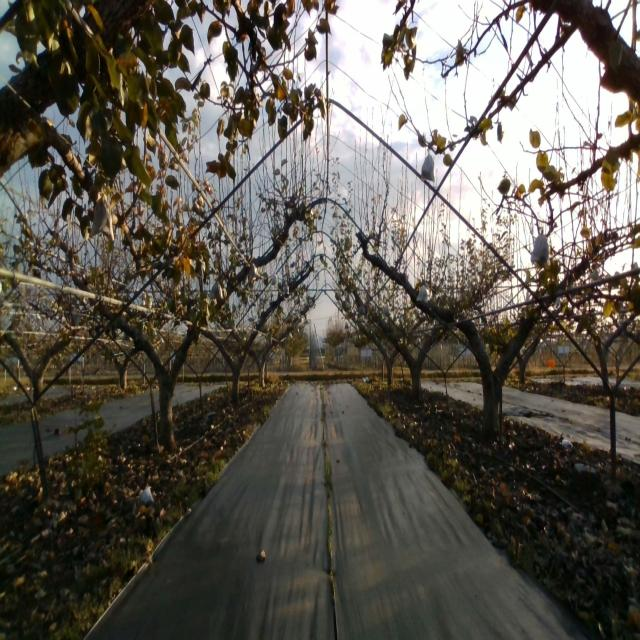pearbags: (89, 193, 114, 242), (530, 226, 548, 268), (421, 150, 435, 183), (416, 283, 433, 305), (210, 278, 223, 301), (248, 261, 260, 283)
